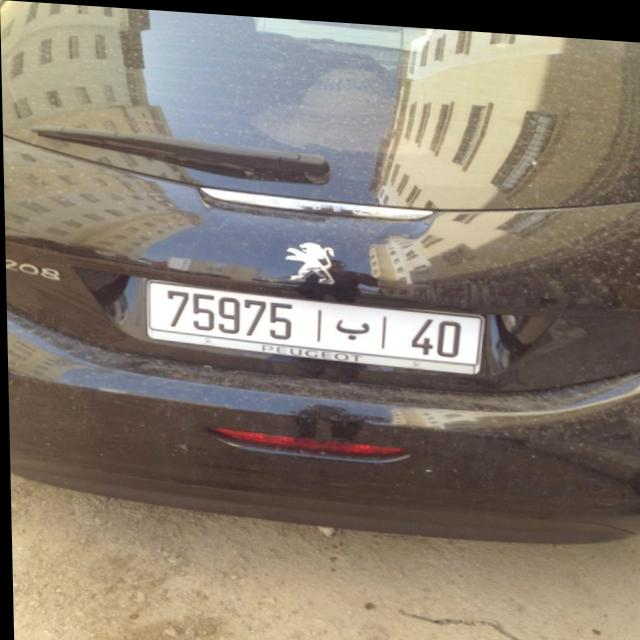License-Plate: (145, 279, 483, 368)
